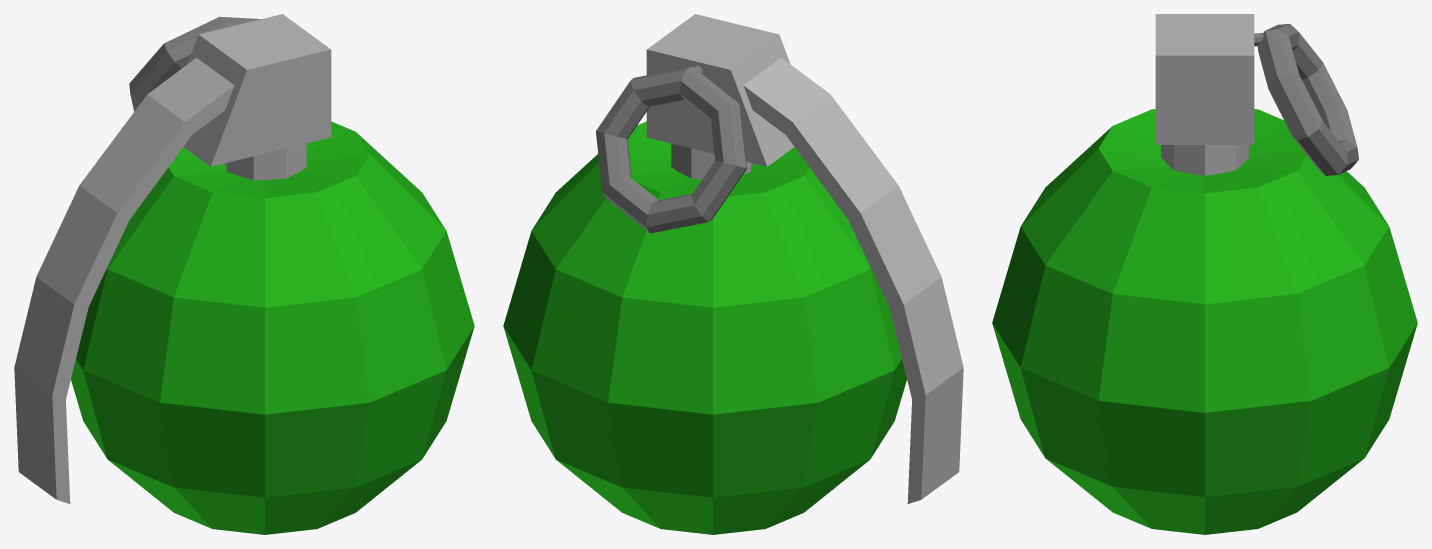
The model's file is Grenade.fbx.
The picture shows the model from 3 angles, left to right: view 1: azimuth 30°, elevation 25°; view 2: azimuth 150°, elevation 25°; view 3: azimuth 270°, elevation 25°; orthographic projection.
Parts seen in each view (by area): view 1: Sphere, Cube, Torus; view 2: Sphere, Cube, Torus; view 3: Sphere, Torus.
Boxes of the visible parts, bbox=[...] form: Sphere: bbox=[71, 14, 474, 534]; Cube: bbox=[14, 57, 234, 503]; Torus: bbox=[129, 16, 260, 111]; Sphere: bbox=[503, 14, 906, 534]; Cube: bbox=[743, 57, 963, 503]; Torus: bbox=[596, 65, 746, 233]; Sphere: bbox=[992, 14, 1417, 534]; Torus: bbox=[1254, 23, 1358, 175].
Bounding box in the file's own units: 227 × 250 × 200.
